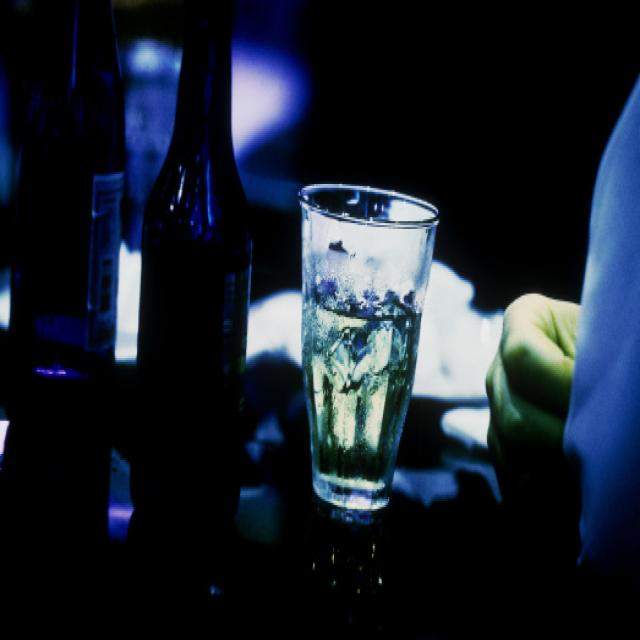Bottle: (137, 12, 262, 558), (0, 0, 130, 452)
Cup: (290, 148, 432, 537)
People: (499, 86, 640, 640)
